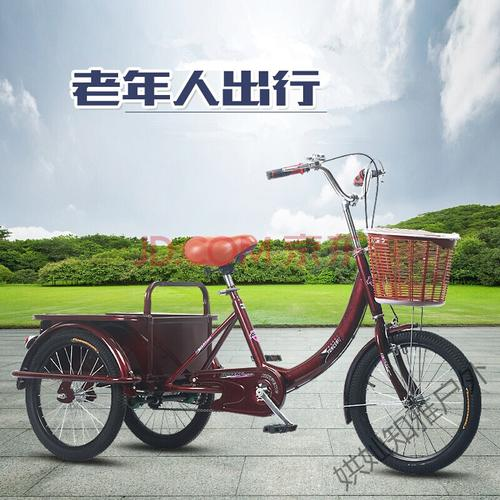empty: (13, 152, 491, 479)
